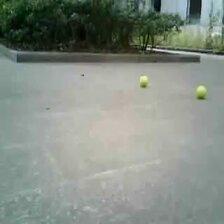tennis: (195, 85, 206, 97), (139, 75, 149, 86)
